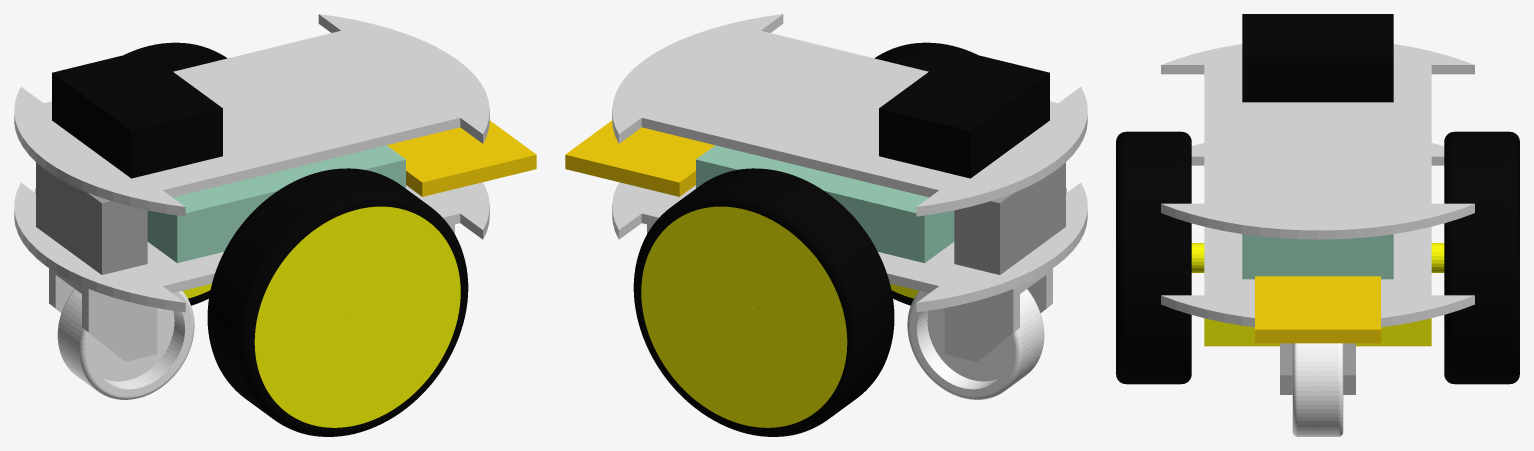
The picture shows the model from 3 angles, left to right: view 1: azimuth 30°, elevation 25°; view 2: azimuth 150°, elevation 25°; view 3: azimuth 270°, elevation 25°; orthographic projection. The views are drawn at different scales.
Parts seen in each view (by area): view 1: node1, node6, node4, node12, node0, node13, node14, node15, node11, node2, node10, node5 (+1 smaller); view 2: node1, node7, node5, node12, node0, node13, node14, node15, node11, node2, node10, node4 (+1 smaller); view 3: node1, node4, node5, node12, node0, node15, node13, node11, node8, node9, node2, node10.
Boxes of the visible parts, x1=… form: node1: x1=14, y1=14, x2=489, y2=216; node6: x1=254, y1=206, x2=460, y2=427; node4: x1=207, y1=168, x2=468, y2=436; node12: x1=52, y1=50, x2=222, y2=178; node0: x1=14, y1=182, x2=489, y2=312; node13: x1=147, y1=145, x2=405, y2=263; node14: x1=36, y1=162, x2=147, y2=274; node15: x1=387, y1=120, x2=536, y2=196; node11: x1=57, y1=289, x2=194, y2=399; node2: x1=49, y1=224, x2=454, y2=361; node10: x1=66, y1=300, x2=174, y2=383; node5: x1=35, y1=42, x2=227, y2=305; node1: x1=612, y1=14, x2=1087, y2=216; node7: x1=641, y1=206, x2=847, y2=427; node5: x1=633, y1=168, x2=894, y2=436; node12: x1=879, y1=50, x2=1049, y2=178; node0: x1=612, y1=182, x2=1087, y2=312; node13: x1=696, y1=145, x2=954, y2=263; node14: x1=954, y1=162, x2=1065, y2=274; node15: x1=565, y1=120, x2=714, y2=196; node11: x1=907, y1=289, x2=1044, y2=399; node2: x1=647, y1=224, x2=1052, y2=361; node10: x1=927, y1=300, x2=1035, y2=383; node4: x1=874, y1=42, x2=1066, y2=305; node1: x1=1161, y1=44, x2=1474, y2=239; node4: x1=1116, y1=131, x2=1191, y2=384; node5: x1=1444, y1=131, x2=1519, y2=384; node12: x1=1242, y1=14, x2=1393, y2=102; node0: x1=1161, y1=143, x2=1474, y2=327; node15: x1=1255, y1=276, x2=1380, y2=343; node13: x1=1242, y1=234, x2=1393, y2=279; node11: x1=1292, y1=343, x2=1343, y2=436; node8: x1=1356, y1=243, x2=1444, y2=346; node9: x1=1191, y1=243, x2=1279, y2=346; node2: x1=1280, y1=343, x2=1355, y2=394; node10: x1=1313, y1=343, x2=1322, y2=436.
Size of the model in its own units: 100 by 80 by 62.
